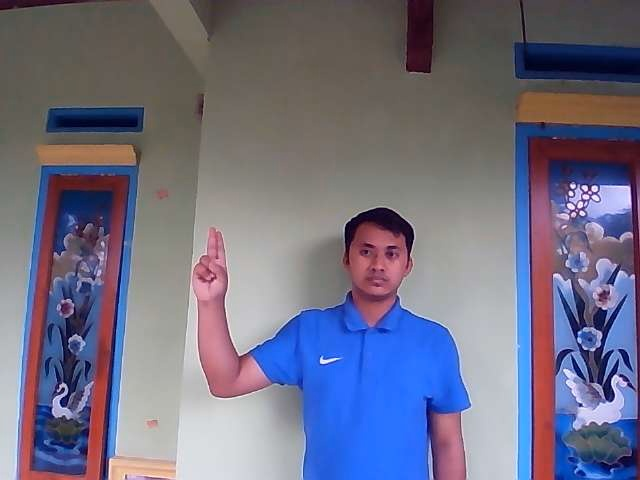U: (191, 225, 228, 302)
